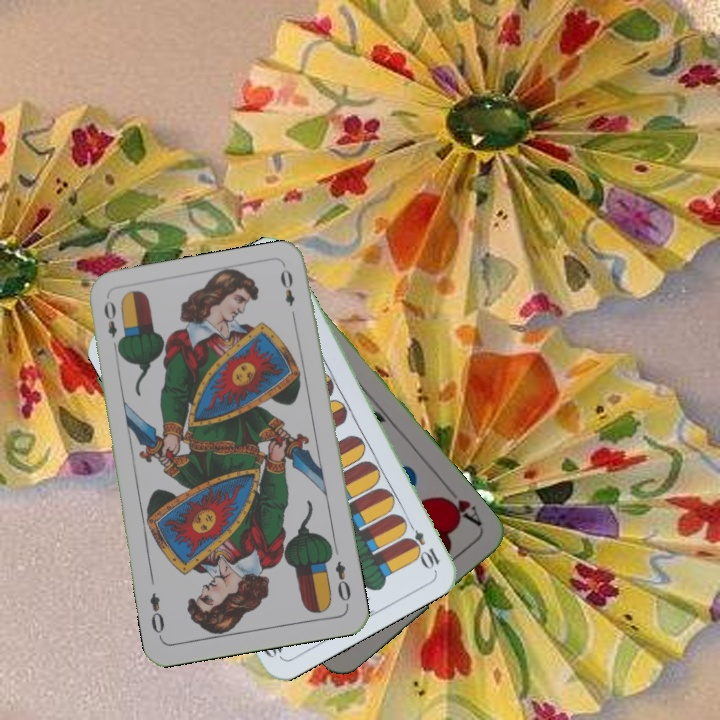E10: (401, 516, 443, 571)
EO: (100, 297, 124, 354), (331, 557, 354, 604)
HA: (436, 491, 485, 532)
